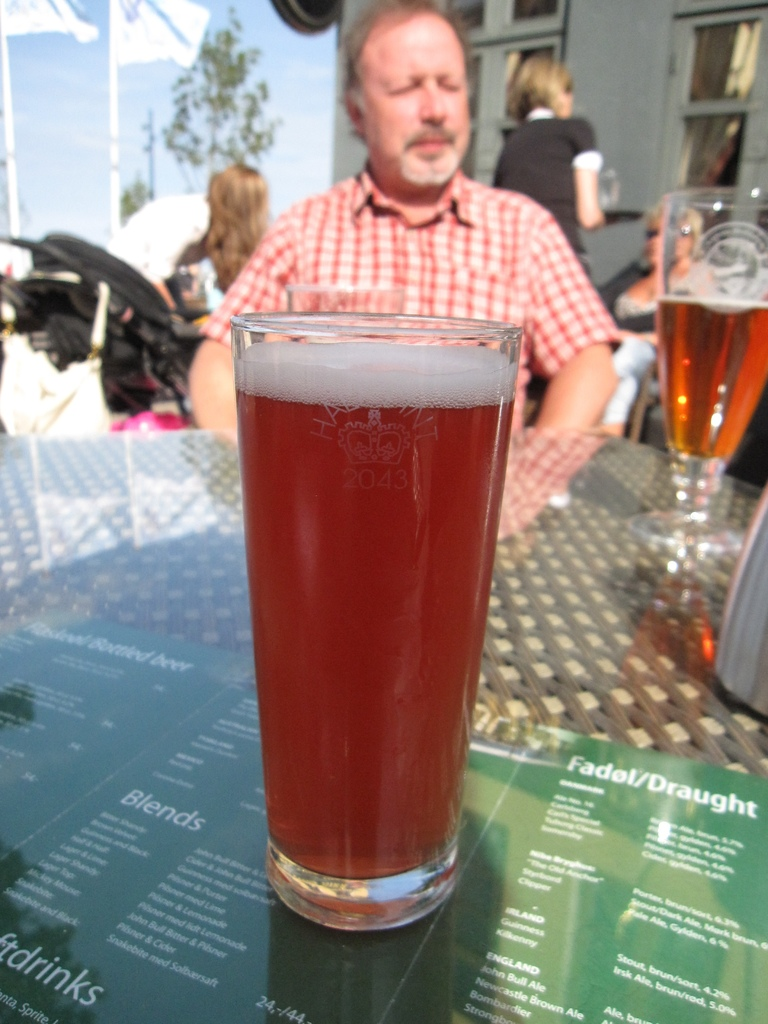Beer: (232, 342, 515, 881)
